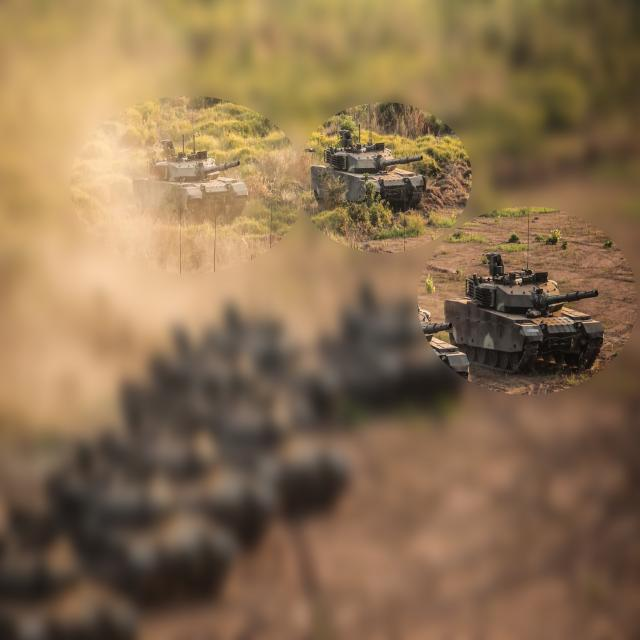tank: (442, 249, 606, 371), (133, 126, 249, 215), (308, 128, 428, 214)
